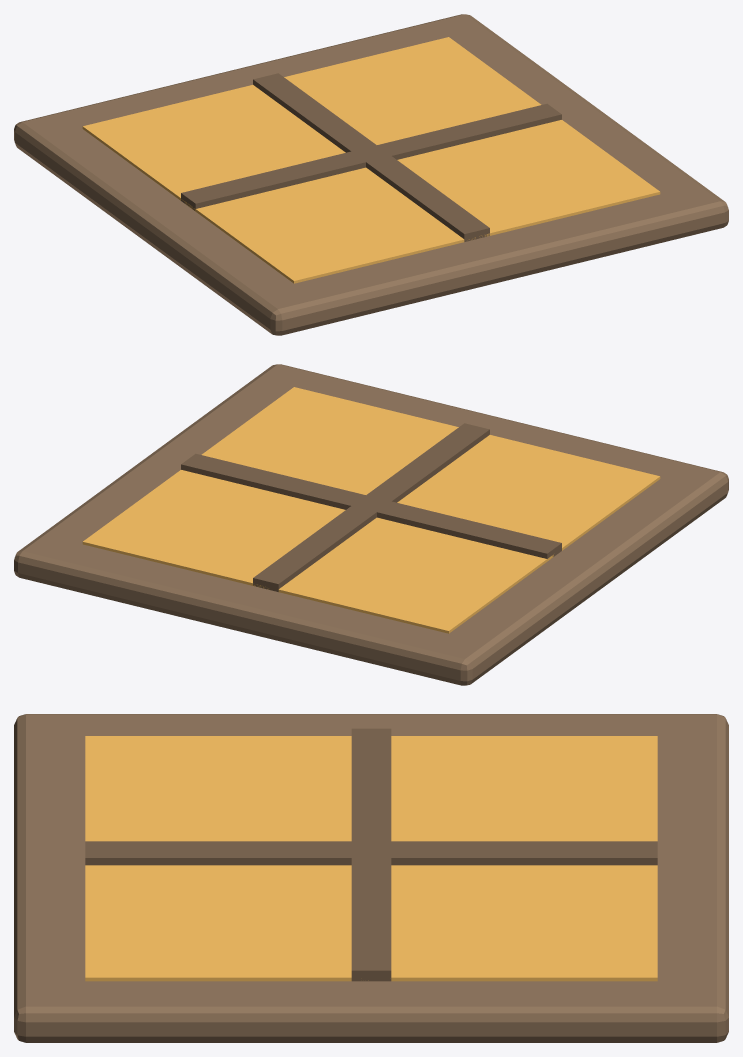
File: portal_orange.glb
3 views of the same model, one above another, from view 1: azimuth 30°, elevation 25°; view 2: azimuth 150°, elevation 25°; view 3: azimuth 270°, elevation 25° (orthographic). The views are drawn at different scales.
Visible parts, largest first — view 1: portal_orange; view 2: portal_orange; view 3: portal_orange.
Boxes of the visible parts, x1,y1,x2,y2 form: portal_orange: (14, 14, 728, 335); portal_orange: (14, 364, 728, 685); portal_orange: (14, 714, 728, 1042).
Bounding box in the file's own units: 0.9 × 0.065 × 0.9.
